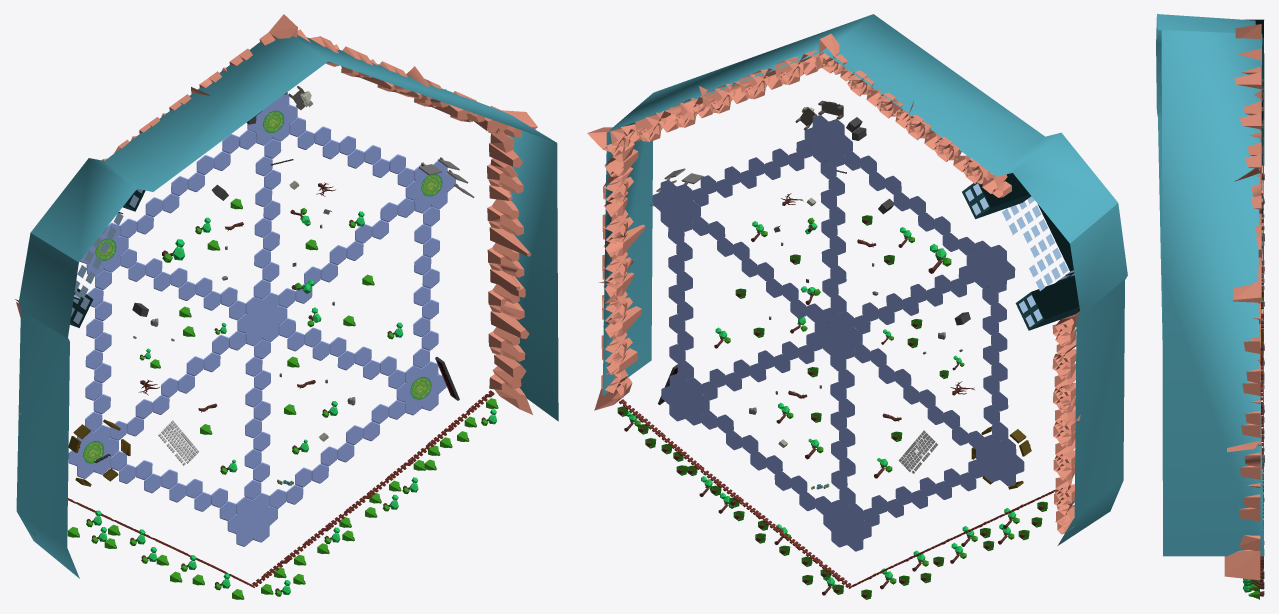
The model's file is MainMap3.glb.
The picture shows the model from 3 angles, left to right: view 1: azimuth 30°, elevation 25°; view 2: azimuth 150°, elevation 25°; view 3: azimuth 270°, elevation 25°; orthographic projection. The views are drawn at different scales.
Parts seen in each view (by area): view 1: Plane.001, Circle.015, Circle.014, пол.010, пол.002, пол.005, пол.006, пол.008, пол.011, пол.001, пол.003, пол.007 (+13 smaller); view 2: Plane.001, Circle.015, Circle.014, Circle.032, Circle.001, stone2.001, пол.008, пол.010, пол.002, пол.004, пол.005, пол.001 (+15 smaller); view 3: Plane.001, Circle.015, Circle.014, stone2.001, Circle.001.
Part boxes in pixels (left/top/right/bottom): Plane.001: left=16, top=35, right=558, bottom=578; Circle.015: left=487, top=132, right=532, bottom=414; Circle.014: left=297, top=29, right=537, bottom=137; пол.010: left=413, top=206, right=439, bottom=367; пол.002: left=244, top=339, right=270, bottom=499; пол.005: left=253, top=139, right=281, bottom=299; пол.006: left=120, top=248, right=245, bottom=320; пол.008: left=85, top=270, right=111, bottom=431; пол.011: left=269, top=400, right=405, bottom=508; пол.001: left=279, top=318, right=404, bottom=389; пол.003: left=120, top=130, right=255, bottom=238; пол.007: left=110, top=330, right=245, bottom=440; Plane.001: left=602, top=14, right=1127, bottom=545; Circle.015: left=594, top=141, right=645, bottom=410; Circle.014: left=587, top=49, right=831, bottom=156; Circle.032: left=1052, top=311, right=1080, bottom=534; Circle.001: left=819, top=34, right=1011, bottom=197; stone2.001: left=962, top=173, right=1079, bottom=330; пол.008: left=982, top=286, right=1008, bottom=441; пол.010: left=668, top=225, right=693, bottom=380; пол.002: left=830, top=353, right=855, bottom=505; пол.004: left=692, top=217, right=822, bottom=322; пол.005: left=820, top=160, right=846, bottom=313; пол.001: left=701, top=332, right=822, bottom=400; Plane.001: left=1156, top=14, right=1264, bottom=556; Circle.015: left=1224, top=302, right=1260, bottom=580; Circle.014: left=1233, top=48, right=1261, bottom=302; stone2.001: left=1245, top=19, right=1264, bottom=165; Circle.001: left=1235, top=24, right=1261, bottom=38.
Size of what is drawn, in the model's own units: 138 by 149 by 25.57.
Materials: 49 (8 with a texture image).
